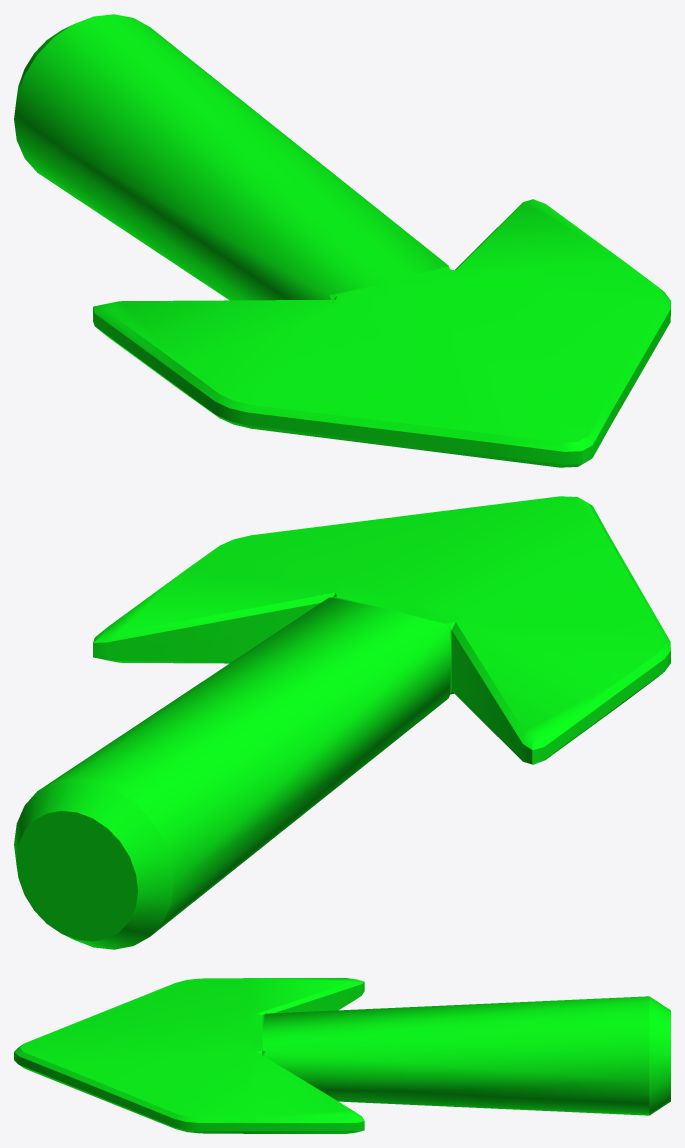
File: Arrow.fbx
The picture shows the model from 3 angles, top to bottom: view 1: azimuth 30°, elevation 25°; view 2: azimuth 150°, elevation 25°; view 3: azimuth 270°, elevation 25°; orthographic projection. The views are drawn at different scales.
Visible parts, largest first — view 1: Cube.001; view 2: Cube.001; view 3: Cube.001.
Boxes of the visible parts, left/top/right/bottom form: Cube.001: left=14, top=14, right=670, bottom=467; Cube.001: left=14, top=496, right=670, bottom=949; Cube.001: left=14, top=978, right=670, bottom=1133.
Bounding box in the file's own units: 7.49 × 2.66 × 14.58.
